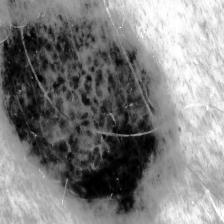Benign Marking or Mole: (0, 0, 171, 214)
